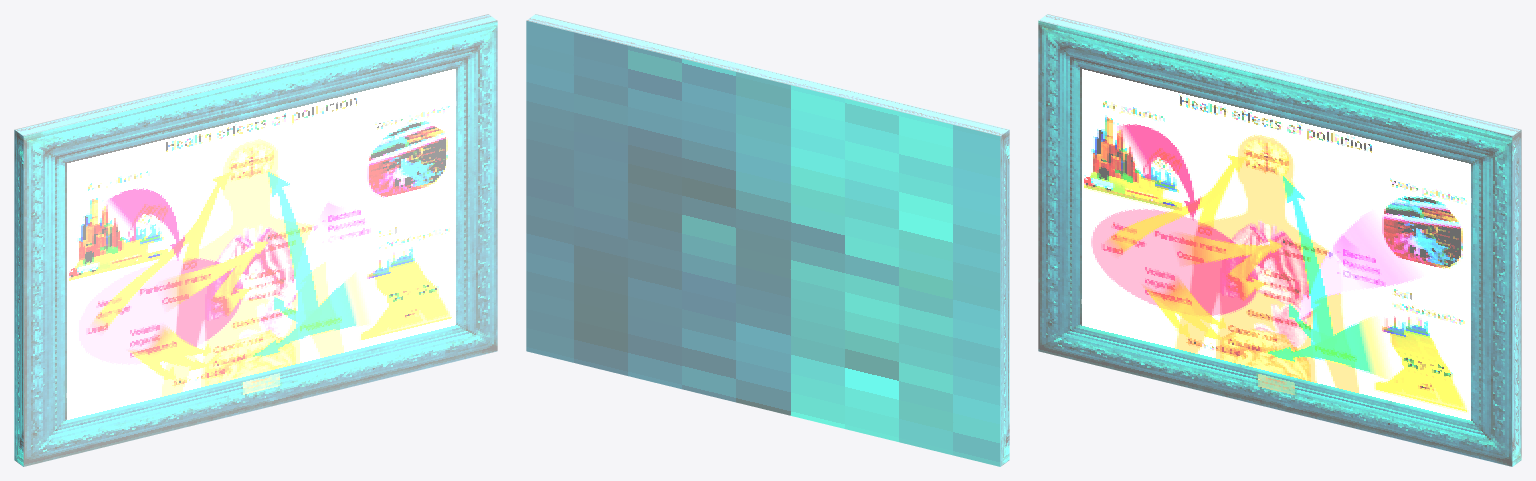
Rendered from urn_painting_3.glb.
3 renders of one model, left to right at view 1: azimuth 30°, elevation 25°; view 2: azimuth 150°, elevation 25°; view 3: azimuth 330°, elevation 25°, orthographic.
Visible parts, largest first — view 1: urn_painting_3; view 2: urn_painting_3; view 3: urn_painting_3.
Boxes of the visible parts, left/top/right/bottom form: urn_painting_3: left=14, top=14, right=497, bottom=466; urn_painting_3: left=526, top=14, right=1009, bottom=466; urn_painting_3: left=1038, top=14, right=1521, bottom=466.
Size of the model in its own units: 3 by 2 by 0.1.
